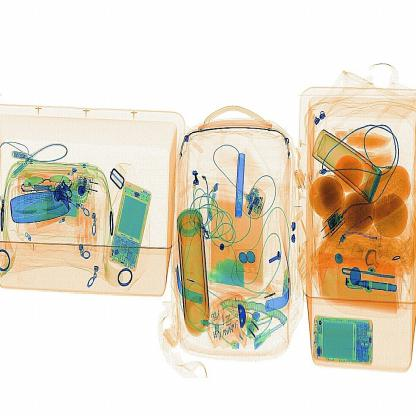pliers: (236, 149, 250, 223)
